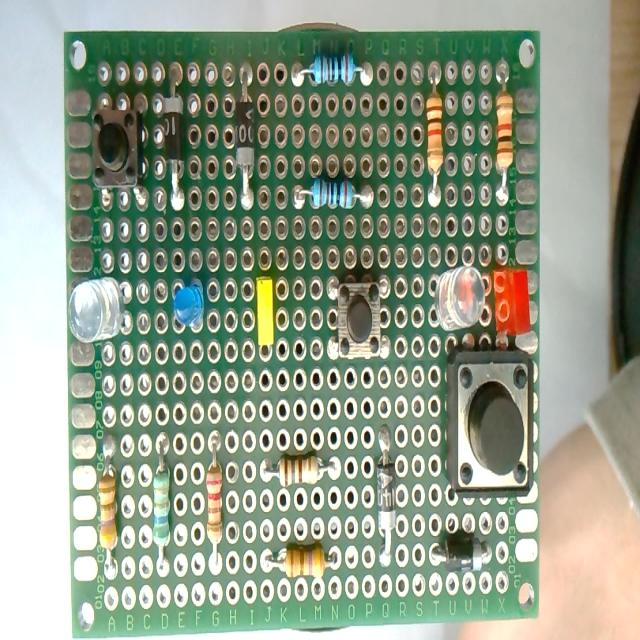diode: (369, 433, 399, 565), (428, 527, 490, 585), (232, 72, 255, 210), (161, 87, 185, 213)
led: (67, 276, 125, 344), (482, 262, 534, 334), (432, 264, 486, 328), (171, 278, 205, 332), (256, 274, 274, 350)
resistor: (266, 536, 338, 582), (261, 448, 343, 488), (292, 50, 370, 90), (294, 176, 372, 215), (494, 64, 514, 202), (424, 68, 444, 204), (98, 440, 118, 572), (205, 431, 224, 569), (153, 438, 170, 570)
switch: (446, 350, 534, 496), (91, 104, 148, 210), (329, 277, 388, 359)
